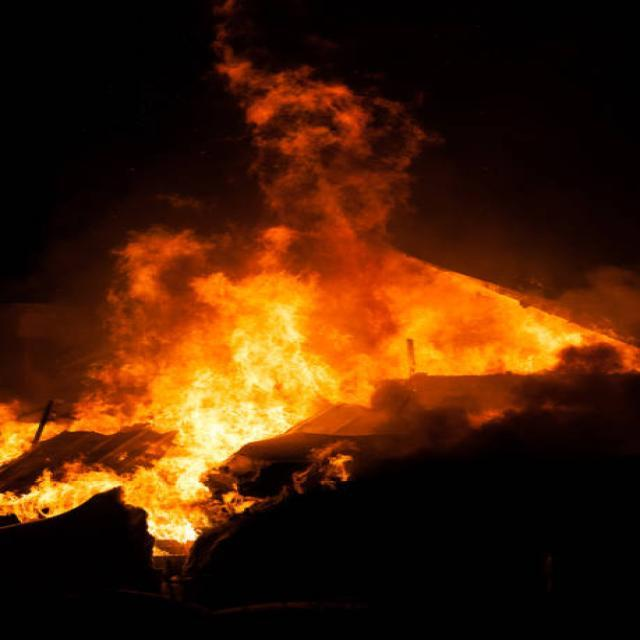Fire: (0, 242, 611, 552)
